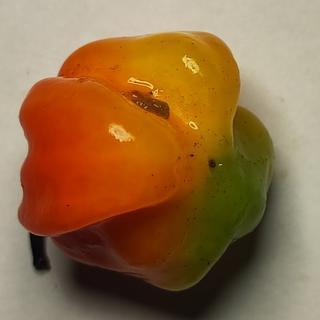Defect: (118, 83, 178, 123)
Fly-bites: (203, 154, 221, 175), (182, 150, 201, 161)
